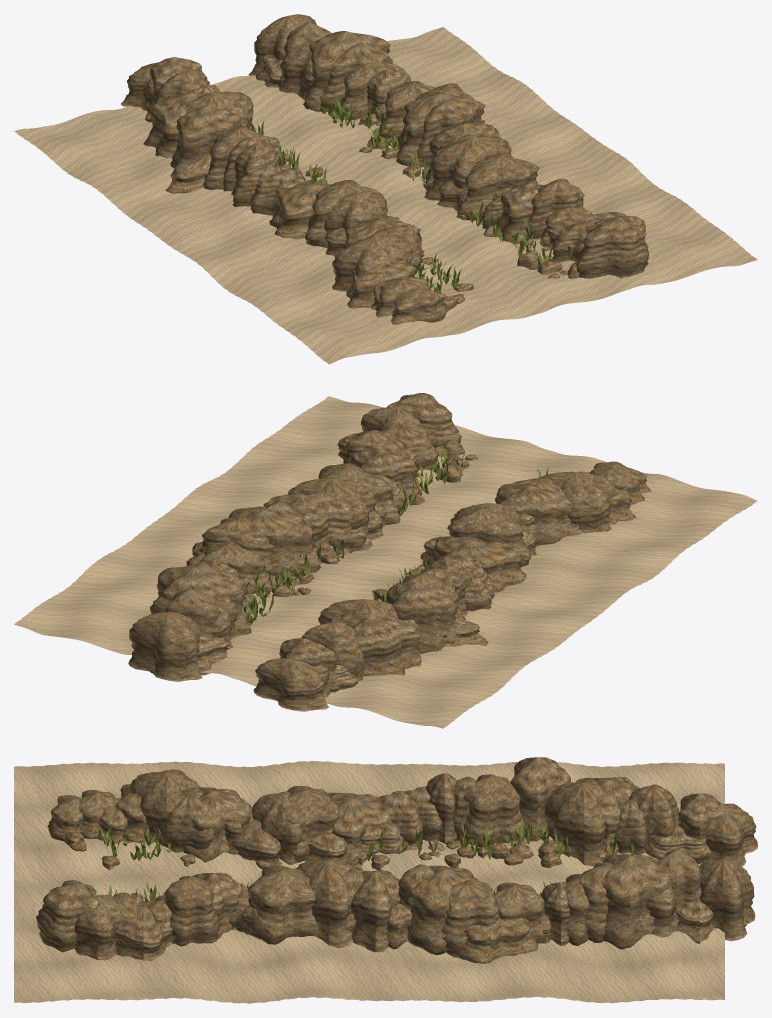
File: tidal-canyon.glb
3 renders of one model, top to bottom at view 1: azimuth 30°, elevation 25°; view 2: azimuth 150°, elevation 25°; view 3: azimuth 270°, elevation 25°, orthographic. The views are drawn at different scales.
Visible parts, largest first — view 1: Rippled sand, Eroded sandstone, Kelp ribbons; view 2: Rippled sand, Eroded sandstone, Kelp ribbons; view 3: Eroded sandstone, Rippled sand, Kelp ribbons.
Boxes of the visible parts, <box> form: Rippled sand: <box>14,27,757,364</box>; Eroded sandstone: <box>121,14,648,324</box>; Kelp ribbons: <box>251,96,574,292</box>; Rippled sand: <box>14,396,757,728</box>; Eroded sandstone: <box>128,393,651,711</box>; Kelp ribbons: <box>242,441,548,624</box>; Eroded sandstone: <box>36,757,757,963</box>; Rippled sand: <box>14,761,724,1003</box>; Kelp ribbons: <box>100,815,636,901</box>.
Bounding box in the file's own units: 62.7 × 9.42 × 83.44.
Materials: 3 (2 with a texture image).
